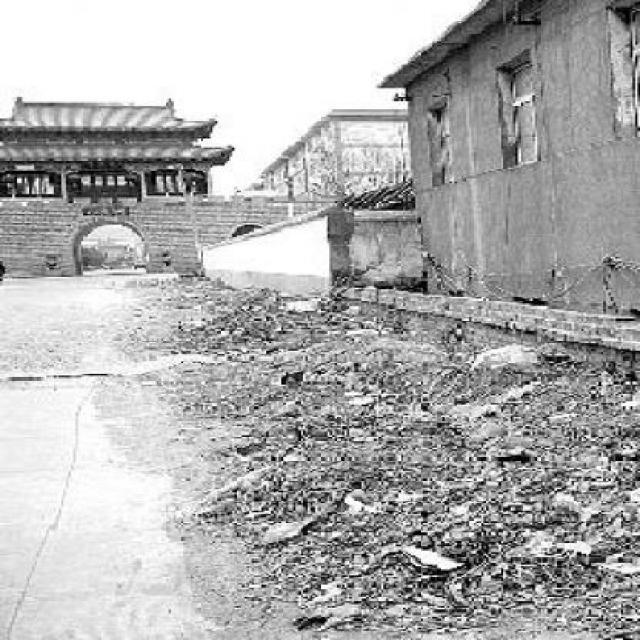garbage: (185, 283, 636, 626)
